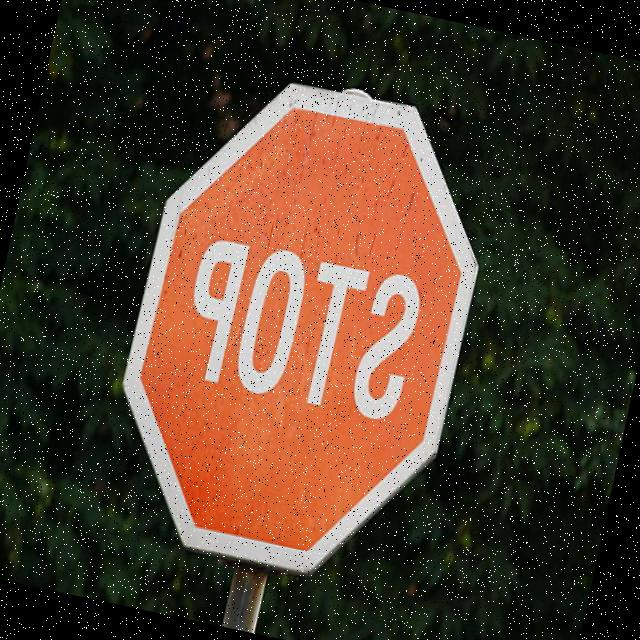stop: (86, 53, 514, 597)
